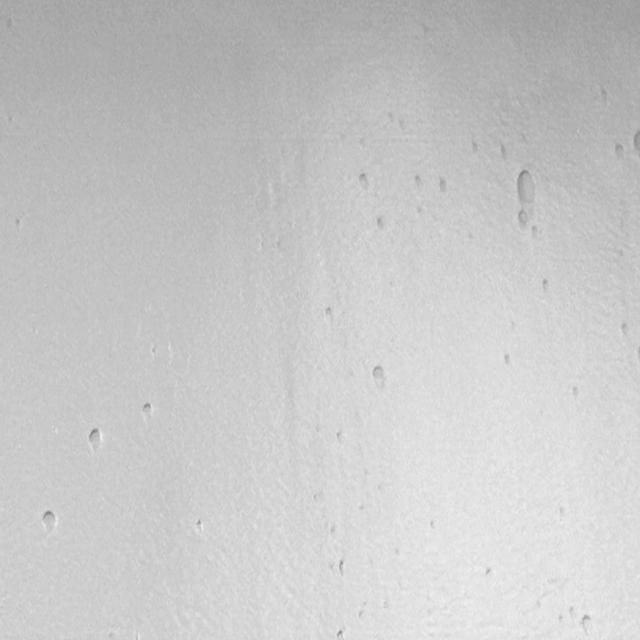pin holes: (514, 170, 540, 210), (37, 508, 60, 536), (84, 425, 105, 453), (370, 362, 390, 391), (355, 170, 374, 197), (578, 613, 598, 638), (618, 318, 636, 344), (514, 210, 532, 236), (372, 213, 390, 236), (612, 142, 628, 166), (334, 558, 351, 580), (139, 401, 155, 423), (437, 177, 452, 197), (498, 142, 510, 166), (323, 304, 338, 322), (502, 352, 516, 370), (482, 566, 497, 582), (334, 429, 348, 446), (571, 386, 584, 404), (412, 174, 424, 193), (194, 517, 207, 534), (359, 597, 368, 621), (470, 138, 481, 157), (310, 492, 324, 506), (13, 218, 25, 234), (540, 278, 552, 293), (568, 605, 580, 620), (335, 626, 349, 638), (631, 130, 638, 153), (428, 517, 436, 535), (394, 543, 402, 560), (558, 505, 565, 523)
